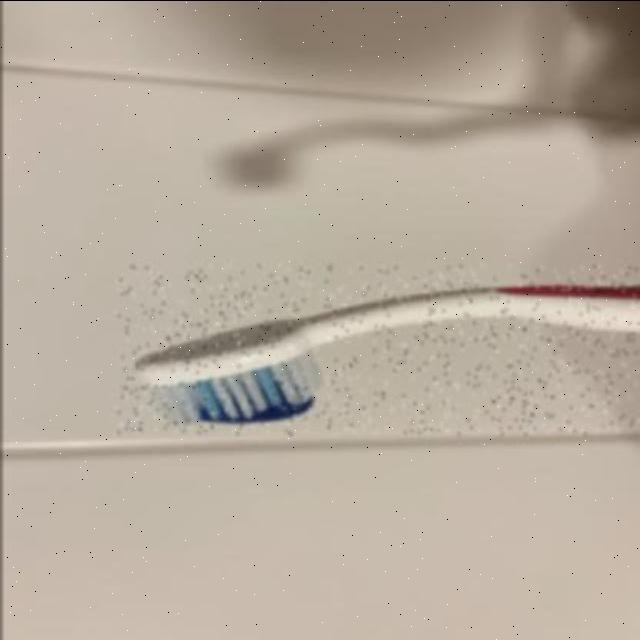toothbrush: (114, 264, 640, 432)
